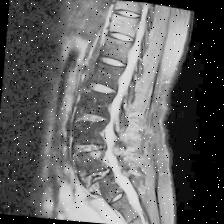disc: (88, 79, 122, 100), (105, 28, 139, 48), (98, 54, 129, 73), (112, 6, 145, 23)
hdisc: (69, 108, 115, 131), (82, 164, 118, 187), (76, 139, 110, 156)
